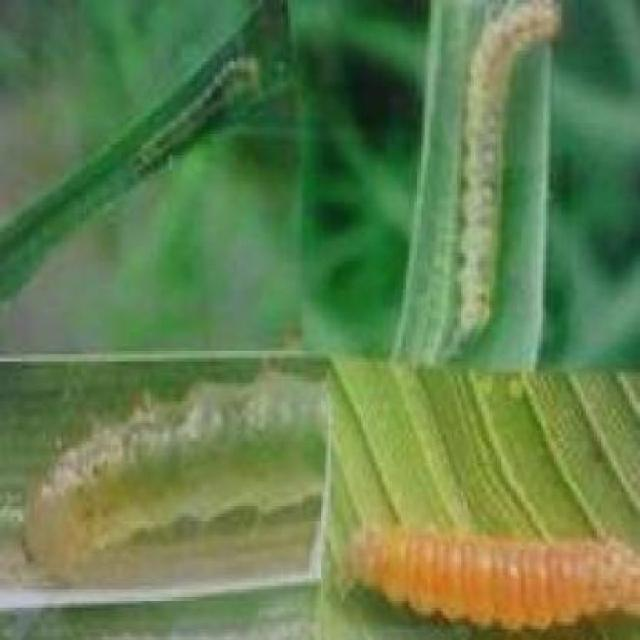leaf-folder: (19, 360, 312, 563), (446, 0, 572, 348), (352, 496, 640, 638), (117, 32, 271, 198)
